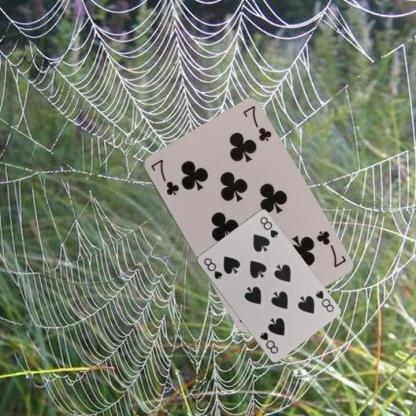7c: (313, 228, 347, 268), (148, 156, 180, 196)
8s: (201, 255, 224, 280), (313, 288, 335, 313)
